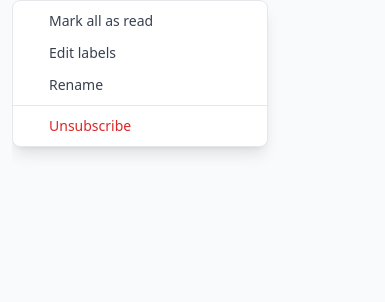
it: FeedContextMenu › shows rename input when clicking Rename
The image size is (385, 302).
Click the button "Rename".
click(140, 85)  # box x1=13 y1=69 x2=267 y2=101
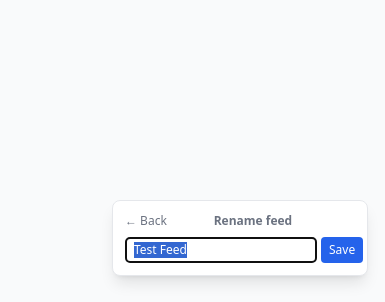
Expected: the text "Rename feed" is shown, x1=214 y1=213 x2=292 y2=229
